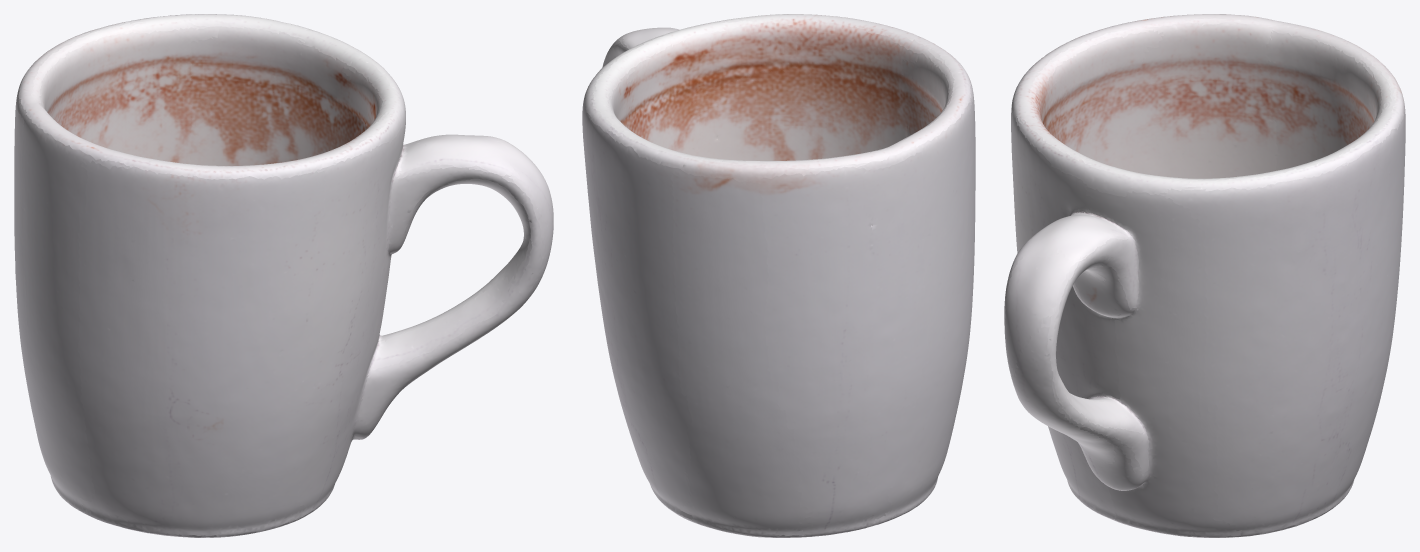
3 views of the same model, side by side, from view 1: azimuth 30°, elevation 25°; view 2: azimuth 150°, elevation 25°; view 3: azimuth 270°, elevation 25° (orthographic).
Parts seen in each view (by area): view 1: world; view 2: world; view 3: world.
Boxes of the visible parts, x1=… form: world: x1=14, y1=14, x2=553, y2=537; world: x1=582, y1=14, x2=975, y2=537; world: x1=1004, y1=14, x2=1405, y2=537.
Bounding box in the file's own units: 0.1089 × 0.095 × 0.0876.
1 material, 1 textured.
